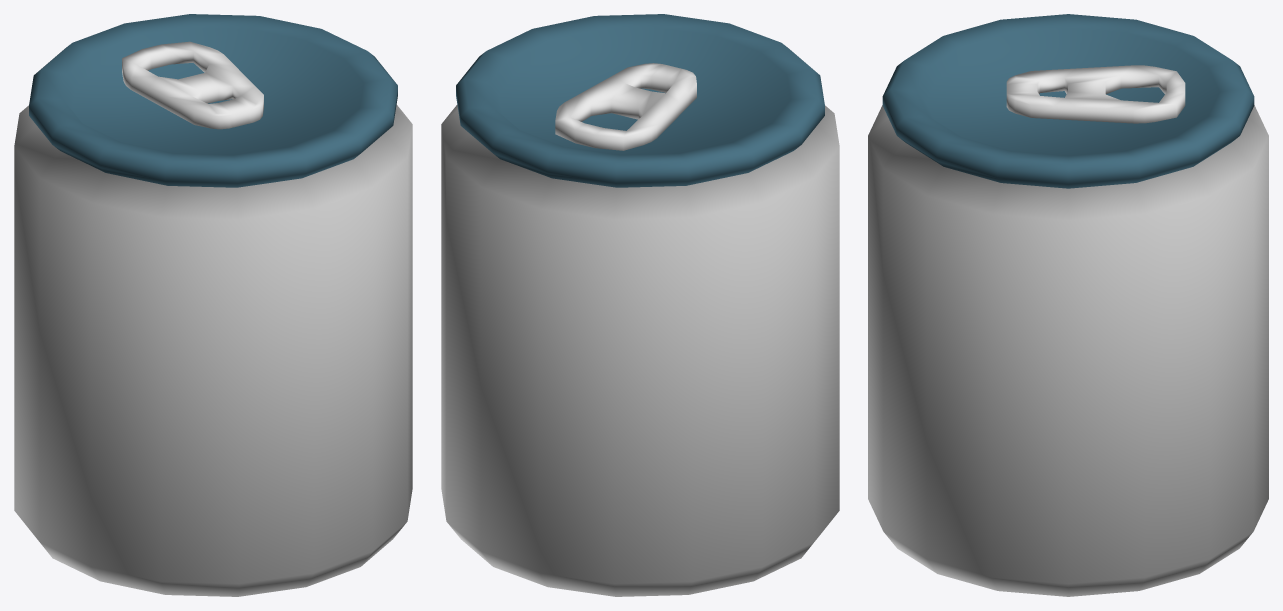
Rendered from lata_bien.fbx.
3 views of the same model, side by side, from view 1: azimuth 30°, elevation 25°; view 2: azimuth 150°, elevation 25°; view 3: azimuth 270°, elevation 25° (orthographic).
Visible parts, largest first — view 1: Lata, Cube.030; view 2: Lata, Cube.030; view 3: Lata, Cube.030.
Boxes of the visible parts, left/top/right/bottom form: Lata: left=14, top=14, right=412, bottom=596; Cube.030: left=122, top=41, right=263, bottom=129; Lata: left=441, top=14, right=839, bottom=596; Cube.030: left=555, top=63, right=696, bottom=150; Lata: left=868, top=14, right=1268, bottom=596; Cube.030: left=1006, top=65, right=1185, bottom=123.
Bounding box in the file's own units: 200 × 236 × 200.
